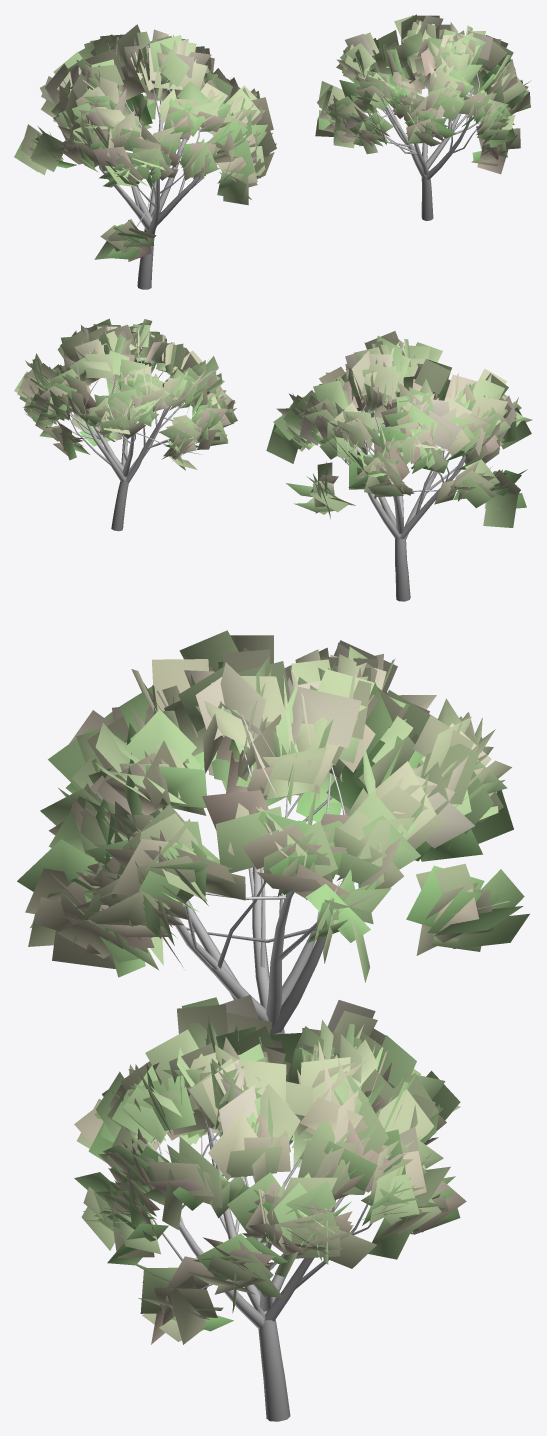
The model's file is Neem.fbx.
3 renders of one model, top to bottom at view 1: azimuth 30°, elevation 25°; view 2: azimuth 150°, elevation 25°; view 3: azimuth 270°, elevation 25°, orthographic. The views are drawn at different scales.
Visible parts, largest first — view 1: Neem_A_LOD0, Neem_B_LOD0; view 2: Neem_A_LOD0, Neem_B_LOD0; view 3: Neem_A_LOD0, Neem_B_LOD0.
Part boxes in pixels (bbox=[...]): Neem_A_LOD0: bbox=[14, 24, 276, 289]; Neem_B_LOD0: bbox=[315, 14, 531, 220]; Neem_A_LOD0: bbox=[266, 331, 532, 601]; Neem_B_LOD0: bbox=[14, 318, 237, 531]; Neem_A_LOD0: bbox=[17, 630, 529, 1144]; Neem_B_LOD0: bbox=[74, 995, 466, 1421].
Size of what is drawn, in the model's own units: 24.26 by 12 by 11.14.
